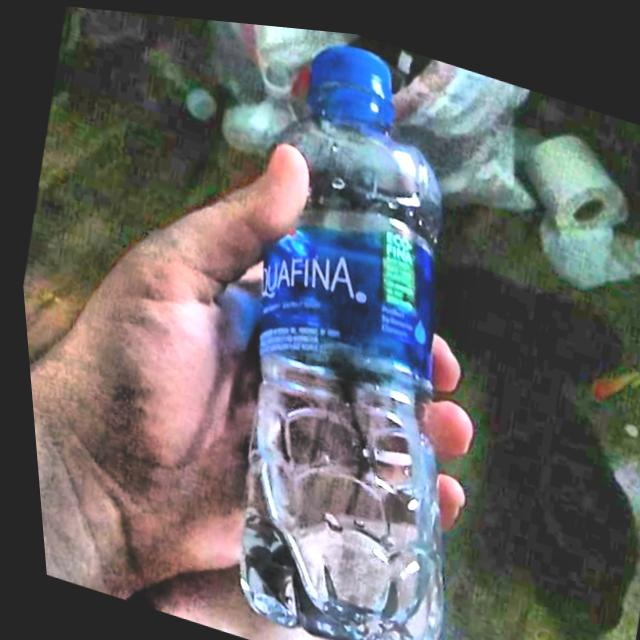Bottles: (101, 8, 636, 640)
